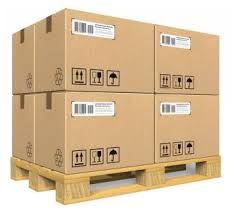box: (64, 91, 155, 176), (65, 7, 155, 92), (154, 94, 220, 163), (155, 24, 219, 95), (35, 7, 65, 93), (33, 91, 63, 174), (10, 92, 34, 165), (10, 21, 34, 93)
box_label: (70, 16, 116, 40), (70, 100, 116, 118), (159, 32, 192, 51), (159, 101, 191, 116)
pallet: (7, 155, 222, 206)
